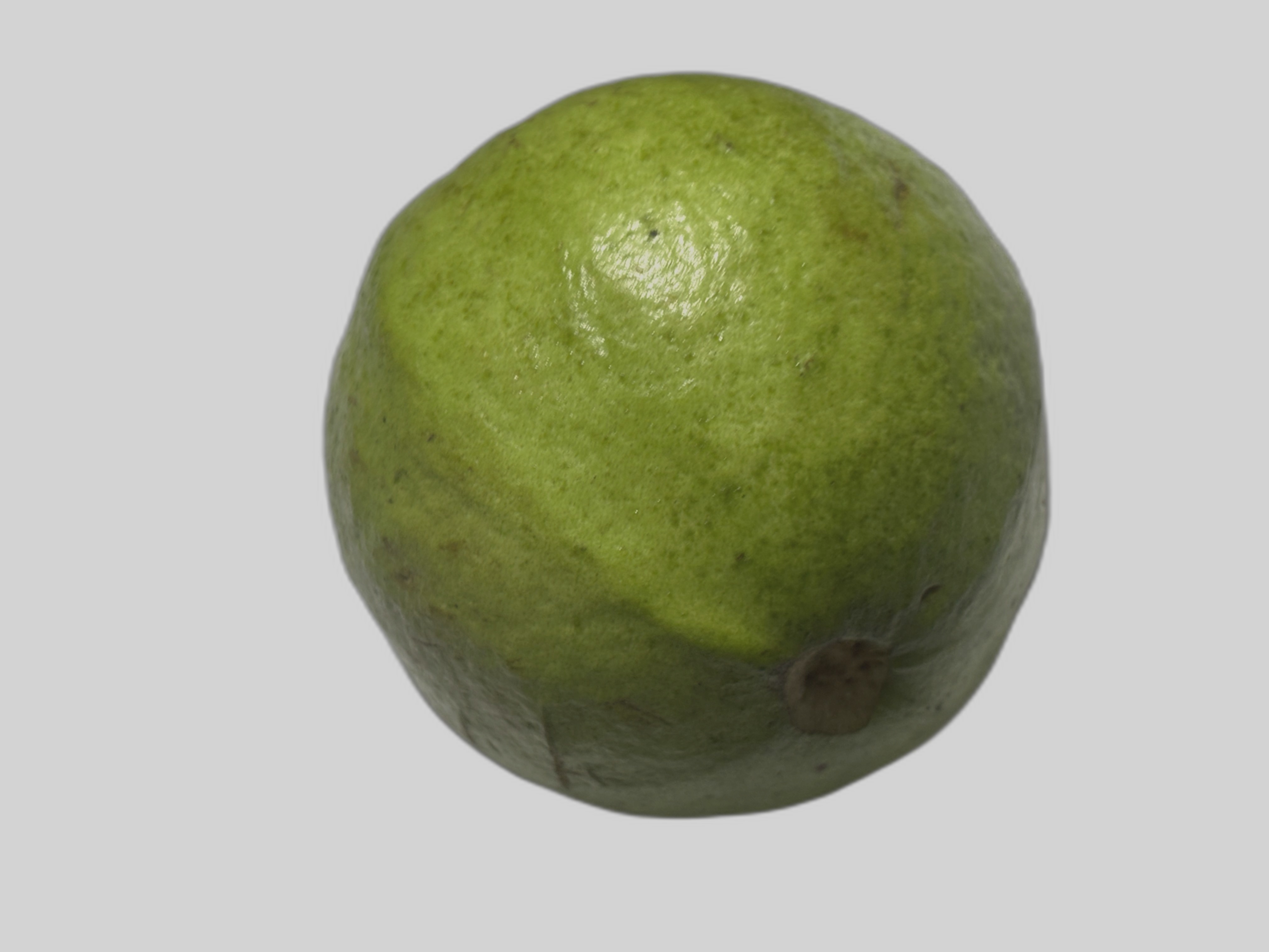guava: (151, 138, 1149, 852)
